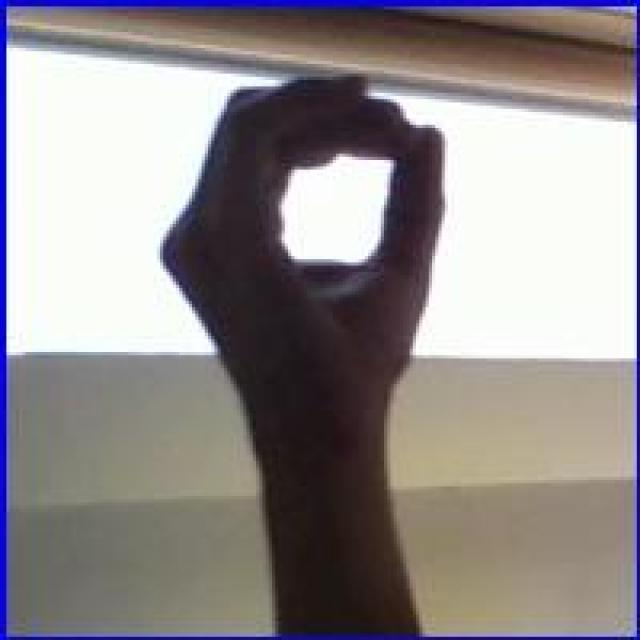O: (155, 67, 453, 435)
